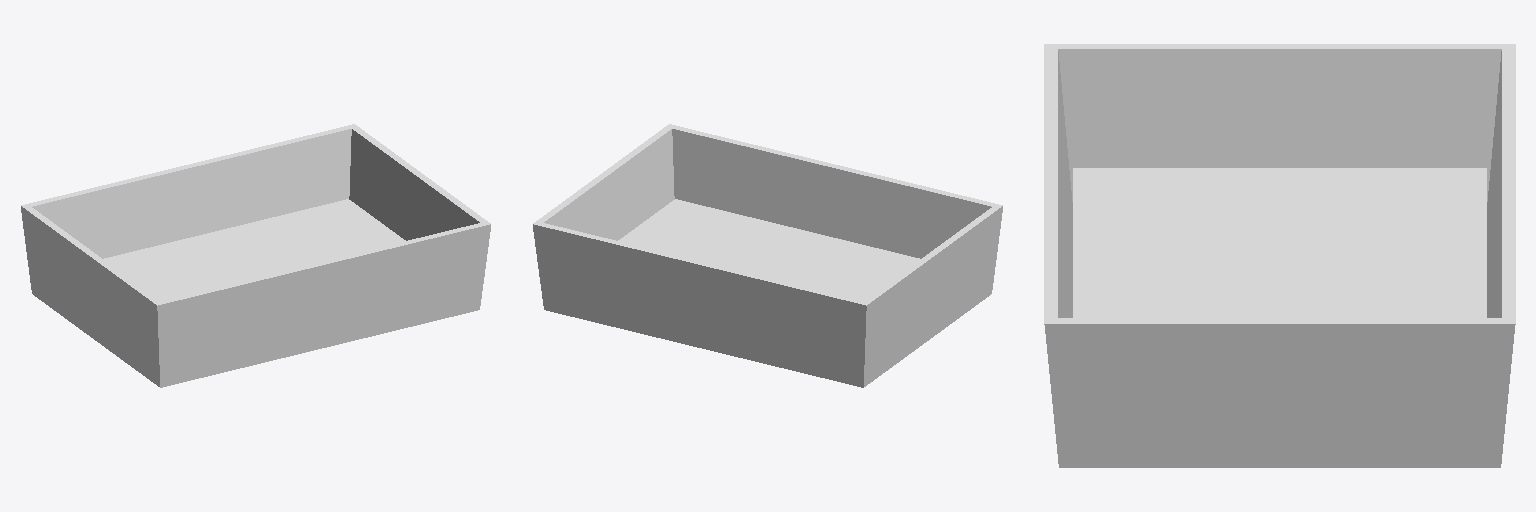
The robot description file, URDF, robot "bin":
<robot name="bin">
  <!-- links -->
  <link name="base">
    <inertial>
      <origin xyz="0 0 0" rpy="0 0 0"/>
      <mass value="0.5"/>
      <inertia ixx="0"  ixy="0"  ixz="0" iyy="0" iyz="0" izz="0" />
    </inertial>
    <visual>
      <origin xyz="0 0 0" rpy="0 0 0" />
      <geometry>
        <mesh filename="bin.obj"/>
      </geometry>
      <material name="white">
        <color rgba="0.95 0.95 0.95 1.0"/>
      </material>
    </visual>
    <collision>
      <origin xyz="0 0 0" rpy="0 0 0"/>
      <geometry>
        <mesh filename="bin.obj"/>
      </geometry>
    </collision>
  </link>
</robot>

--- Render facts (derived) ---
3 views of the same robot in one strip: view 1: azimuth 30°, elevation 25°; view 2: azimuth 150°, elevation 25°; view 3: azimuth 270°, elevation 25° (orthographic).
Robot: bin — 1 links, 0 joints (none); root link base; default pose: all joints at 0.
Visible links, largest first — view 1: base; view 2: base; view 3: base.
Link boxes in pixels (x1=…): base: x1=21, y1=124, x2=490, y2=387; base: x1=533, y1=124, x2=1002, y2=387; base: x1=1044, y1=44, x2=1515, y2=467.
Bounding box of the posed robot: 0.4811 × 0.3411 × 0.12 m (x, y, z).
Meshes: 1 distinct files referenced, 1 mesh visuals loaded (1 OBJ).